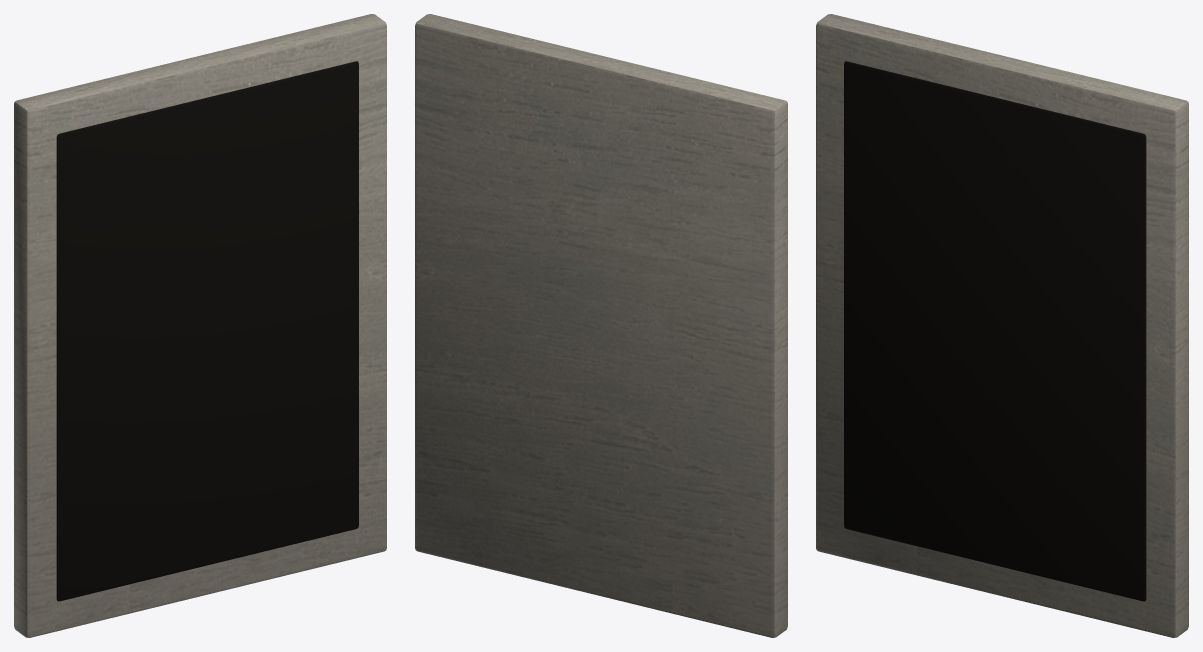
The model's file is Sign_Plaque.gltf.
The picture shows the model from 3 angles, left to right: view 1: azimuth 30°, elevation 25°; view 2: azimuth 150°, elevation 25°; view 3: azimuth 330°, elevation 25°; orthographic projection.
Parts seen in each view (by area): view 1: Sign_Plaque; view 2: Sign_Plaque; view 3: Sign_Plaque.
Boxes of the visible parts, <box> form: Sign_Plaque: <box>14,14,386,637</box>; Sign_Plaque: <box>415,14,787,637</box>; Sign_Plaque: <box>816,14,1188,637</box>.
Size of the model in its own units: 0.5 by 0.7 by 0.0375.
2 materials, 1 textured.
